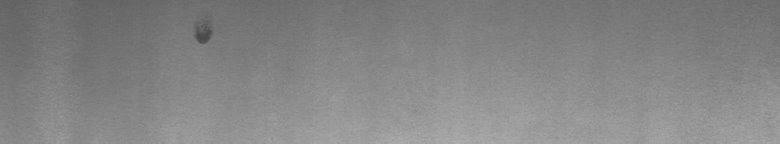fi: (191, 28, 216, 52)
